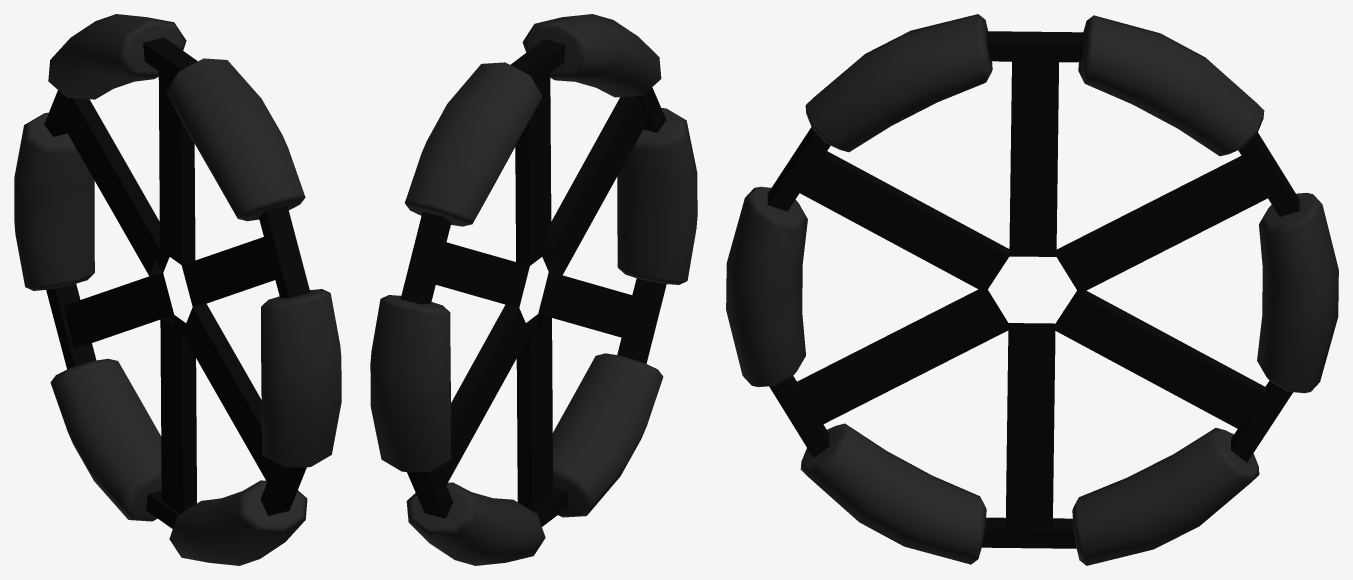
Rendered from Delivery_drone_007_wheels_002.fbx.
3 views of the same model, side by side, from view 1: azimuth 30°, elevation 25°; view 2: azimuth 150°, elevation 25°; view 3: azimuth 270°, elevation 25° (orthographic). The views are drawn at different scales.
Parts seen in each view (by area): view 1: Delivery_drone_007_wheels_002; view 2: Delivery_drone_007_wheels_002; view 3: Delivery_drone_007_wheels_002.
Boxes of the visible parts, bbox=[...] form: Delivery_drone_007_wheels_002: bbox=[14, 14, 341, 565]; Delivery_drone_007_wheels_002: bbox=[370, 14, 697, 565]; Delivery_drone_007_wheels_002: bbox=[726, 14, 1338, 565].
Bounding box in the file's own units: 12.11 × 75.23 × 73.62.
